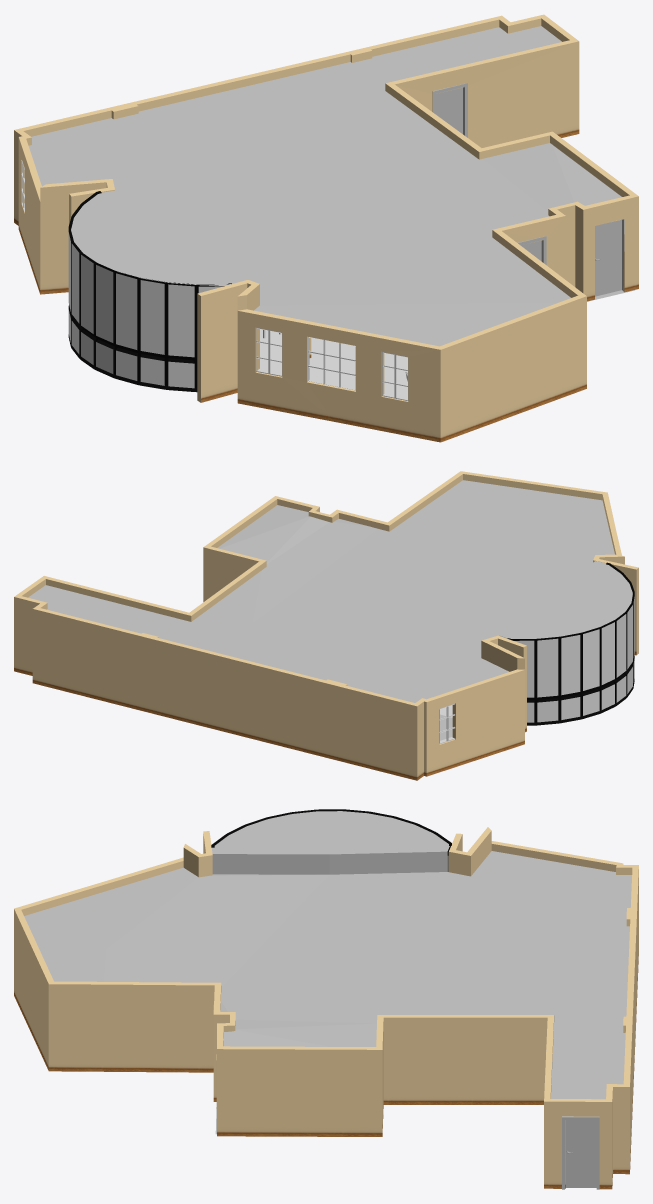
File: OfficeforSketchFab.fbx
3 views of the same model, one above another, from view 1: azimuth 30°, elevation 25°; view 2: azimuth 150°, elevation 25°; view 3: azimuth 270°, elevation 25° (orthographic). The views are drawn at different scales.
Visible parts, largest first — view 1: Floor.003, Room.000, RoundWindowGlass.001, RoundWindowMetal.001, Doors, Floor.002, Windows.001; view 2: Floor.003, Room.000, RoundWindowGlass.001, RoundWindowMetal.001; view 3: Floor.003, Room.000, Doors, RoundWindowMetal.001.
Boxes of the visible parts, x1,y1,x2,y2 form: Floor.003: [28, 26, 621, 346]; Room.000: [14, 14, 638, 442]; RoundWindowGlass.001: [68, 232, 222, 388]; RoundWindowMetal.001: [68, 191, 231, 392]; Doors: [432, 83, 624, 296]; Floor.002: [260, 290, 634, 397]; Windows.001: [21, 160, 408, 400]; Floor.003: [28, 480, 632, 702]; Room.000: [14, 471, 638, 780]; RoundWindowGlass.001: [514, 597, 634, 722]; RoundWindowMetal.001: [507, 562, 634, 725]; Floor.003: [24, 811, 631, 1099]; Room.000: [14, 827, 638, 1189]; Doors: [213, 1005, 599, 1189]; RoundWindowMetal.001: [211, 809, 451, 855].
Size of the model in its own units: 20.58 by 3.52 by 19.48.
